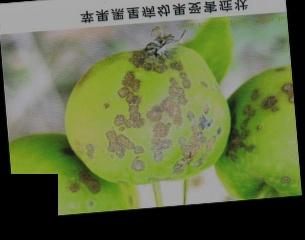rotten apple: (61, 44, 230, 182), (209, 67, 296, 199), (11, 130, 135, 214)
